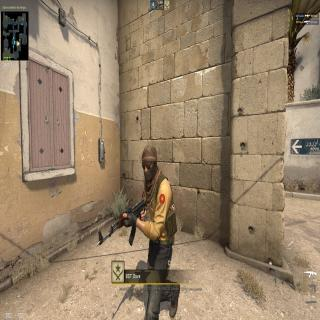T-Head: (140, 140, 160, 185)
